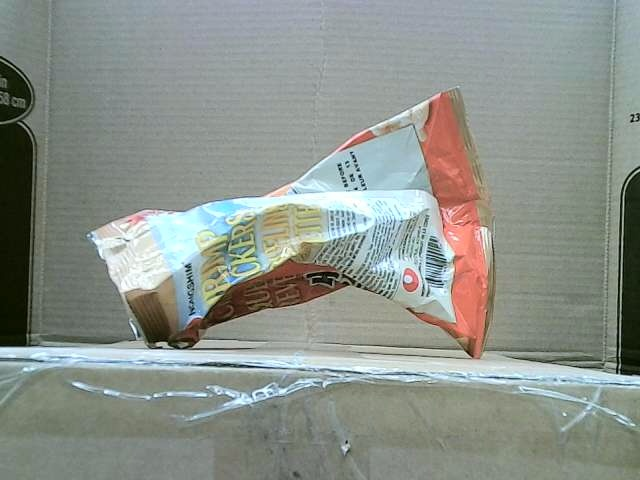Chips: (87, 85, 495, 358)
